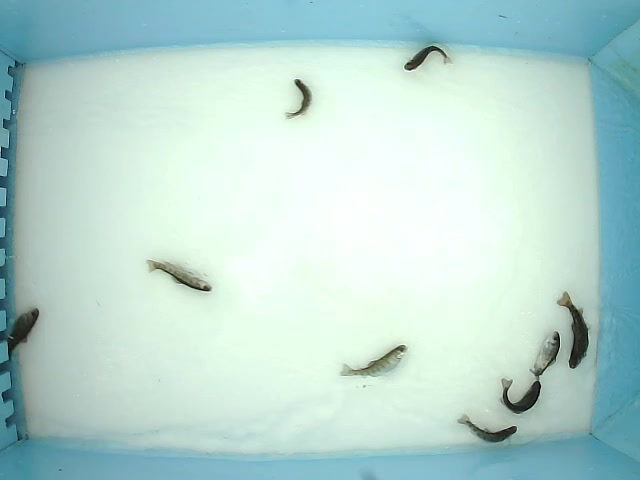fish: (556, 288, 592, 370), (338, 343, 409, 378), (144, 257, 213, 292), (455, 412, 519, 444), (6, 306, 40, 363), (530, 329, 561, 383), (498, 378, 541, 414), (283, 77, 313, 121), (403, 45, 453, 71)
